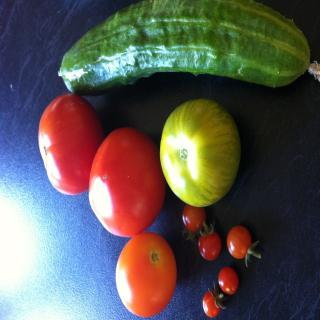tomato: (158, 96, 240, 208), (88, 126, 166, 237), (36, 91, 103, 192), (114, 233, 175, 314), (226, 224, 262, 267), (198, 221, 221, 262), (202, 279, 226, 316), (182, 204, 205, 239), (218, 266, 238, 294)
